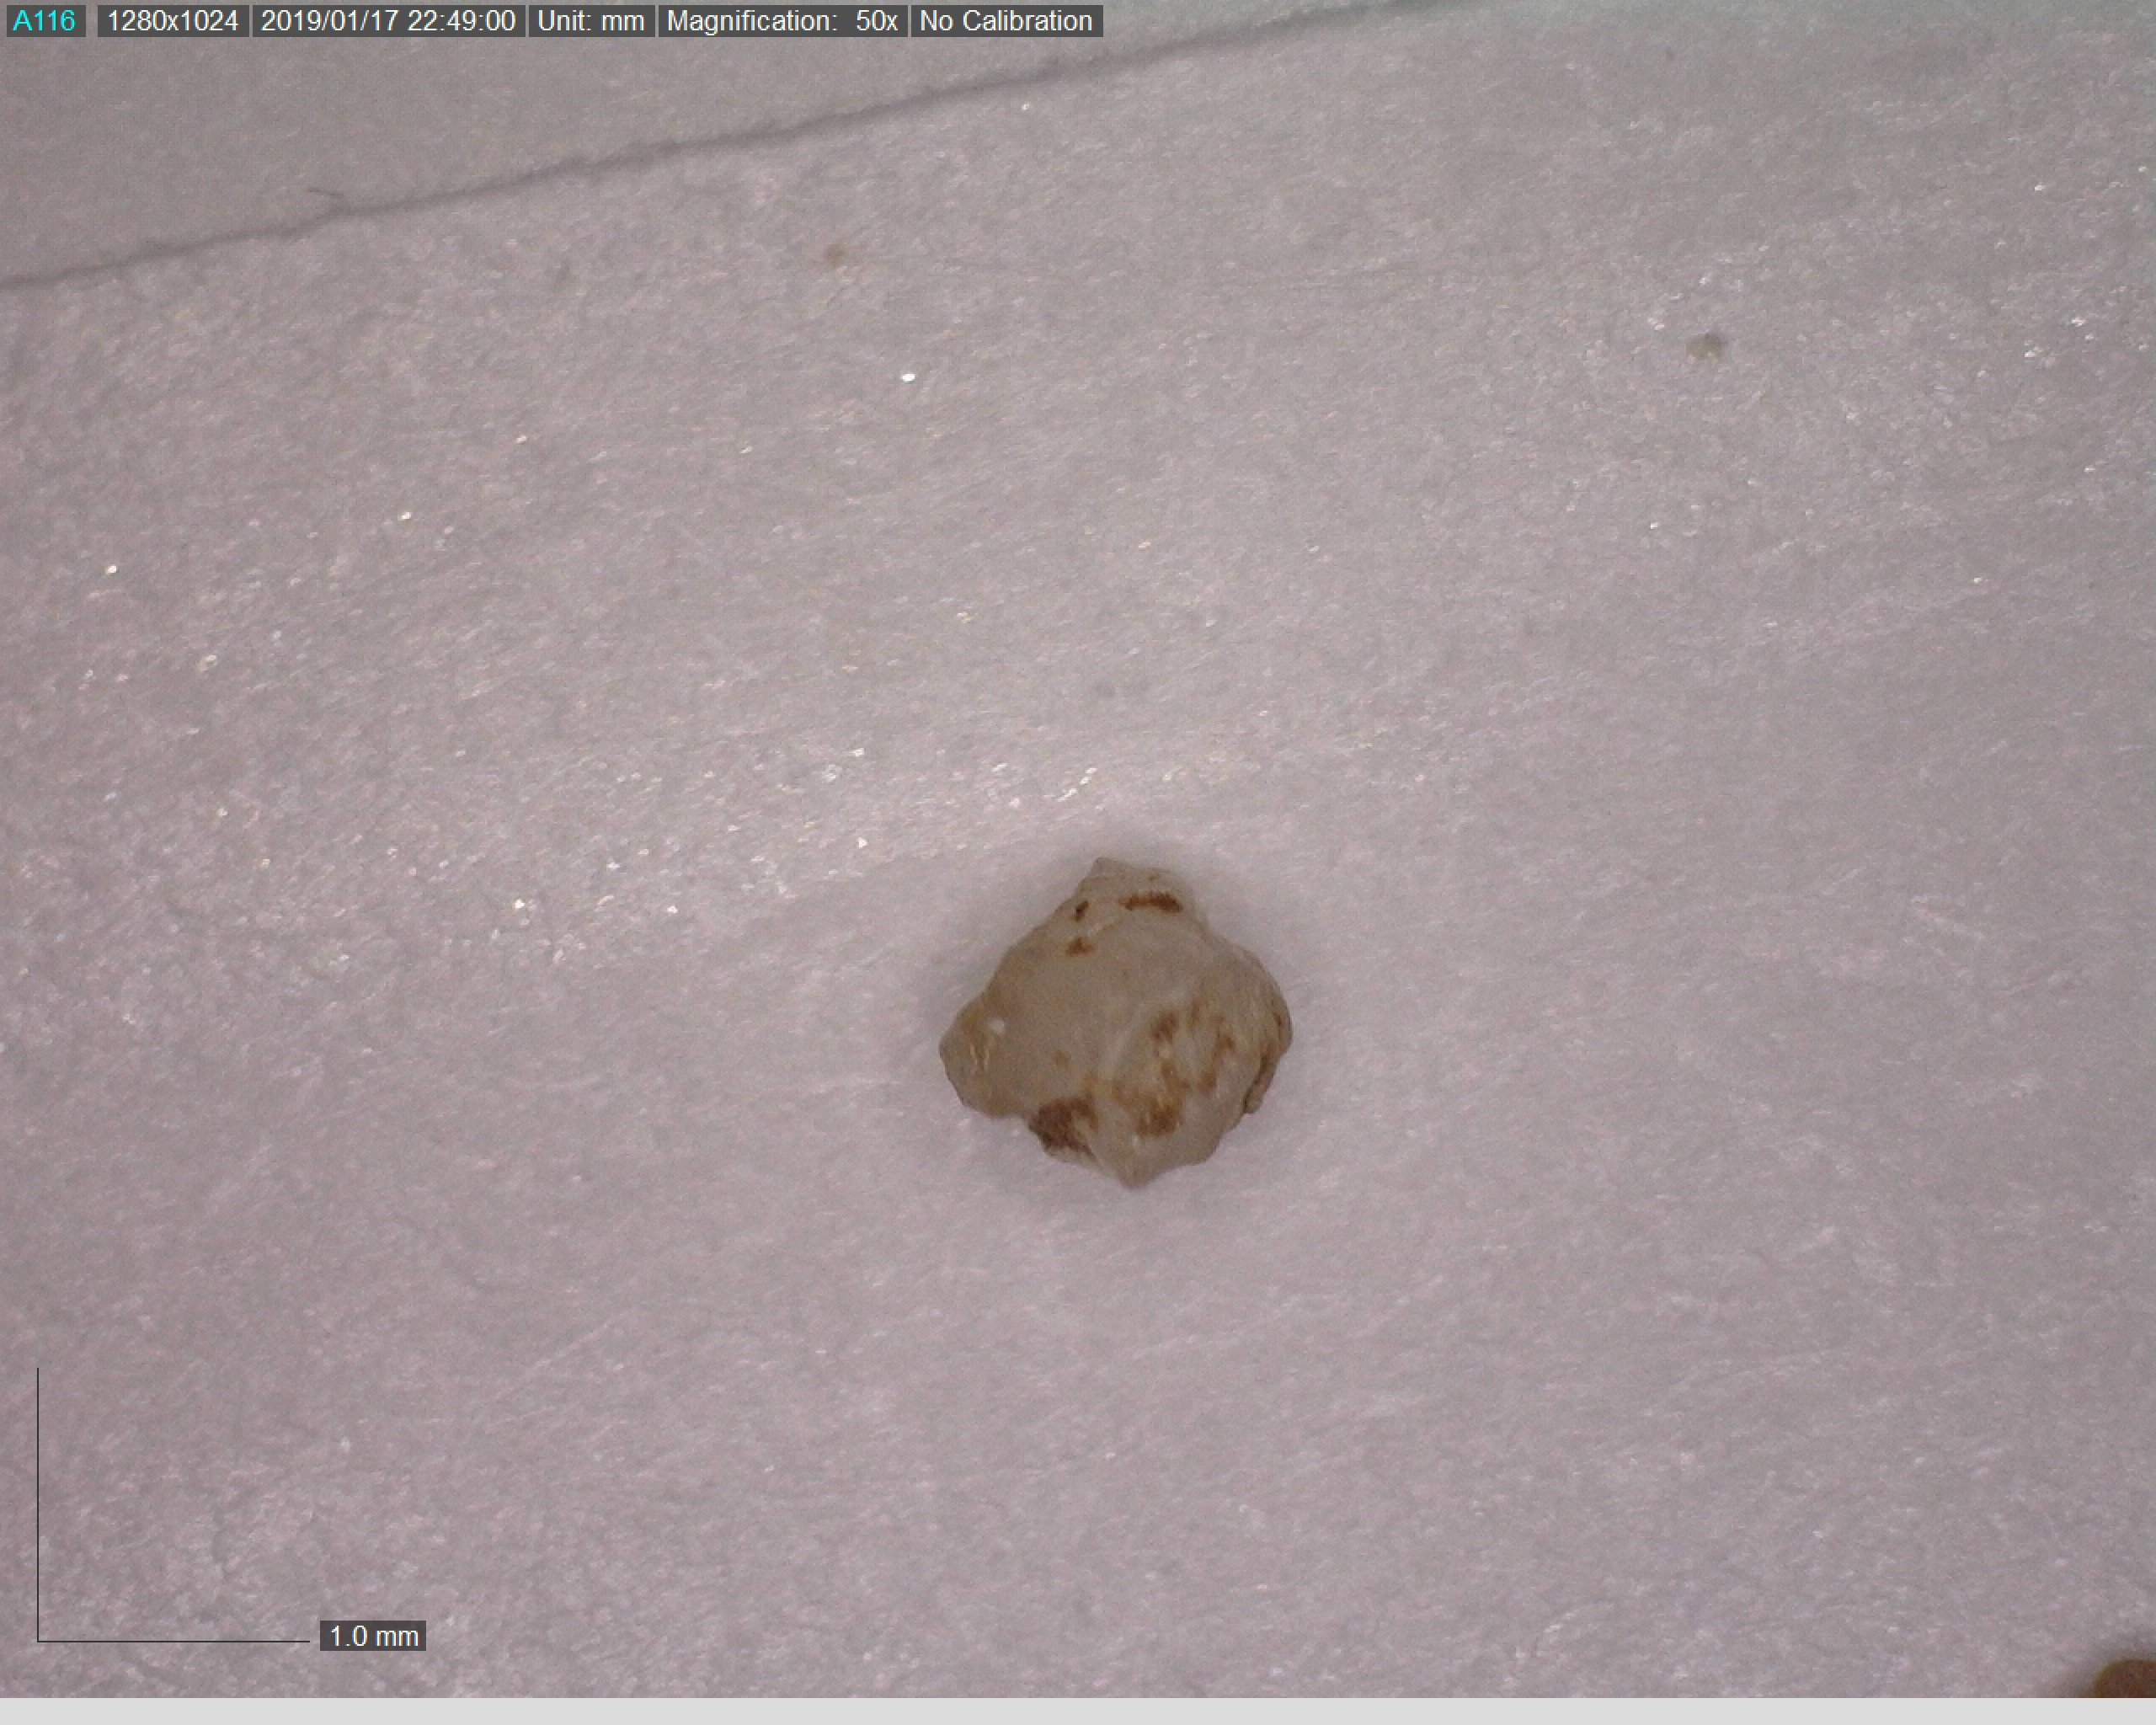Quartz: (915, 834, 1313, 1208)
